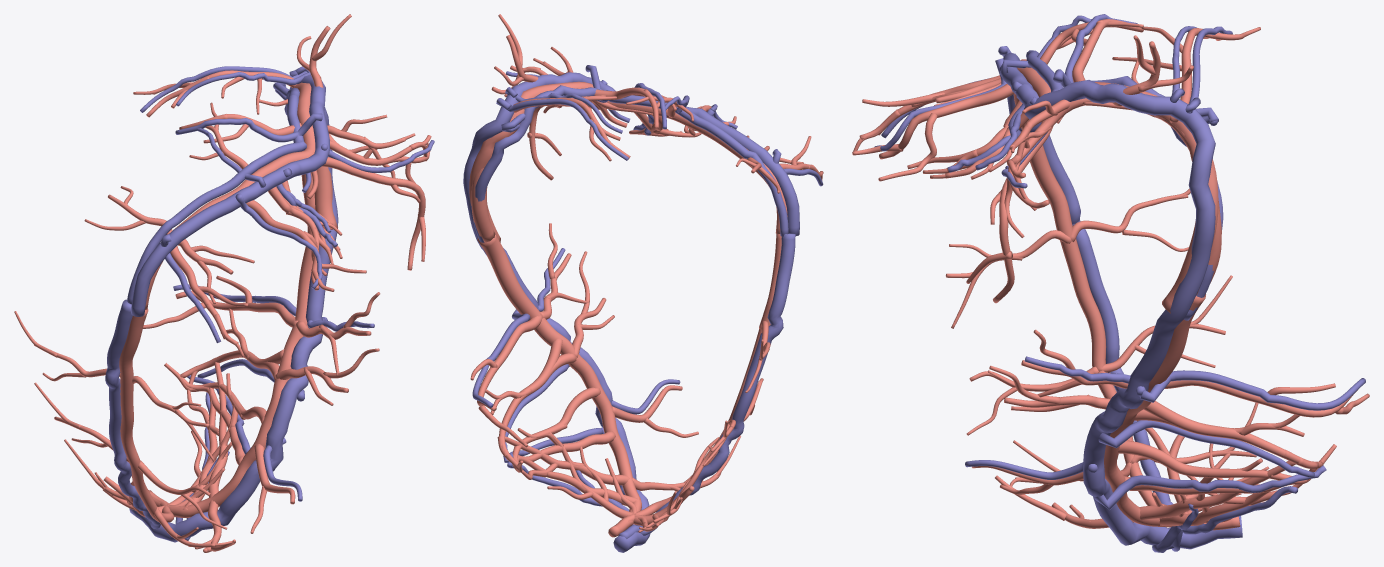
The model's file is vessels_36.glb.
3 views of the same model, side by side, from view 1: azimuth 30°, elevation 25°; view 2: azimuth 150°, elevation 25°; view 3: azimuth 270°, elevation 25° (orthographic). The views are drawn at different scales.
Visible parts, largest first — view 1: Renderer Node; view 2: Renderer Node; view 3: Renderer Node.
Part boxes in pixels (box(x1,y1,x2,y2)): Renderer Node: box(14, 14, 434, 552); Renderer Node: box(463, 14, 823, 552); Renderer Node: box(852, 14, 1369, 552).
Size of the model in its own units: 88.15 by 120 by 91.67.
